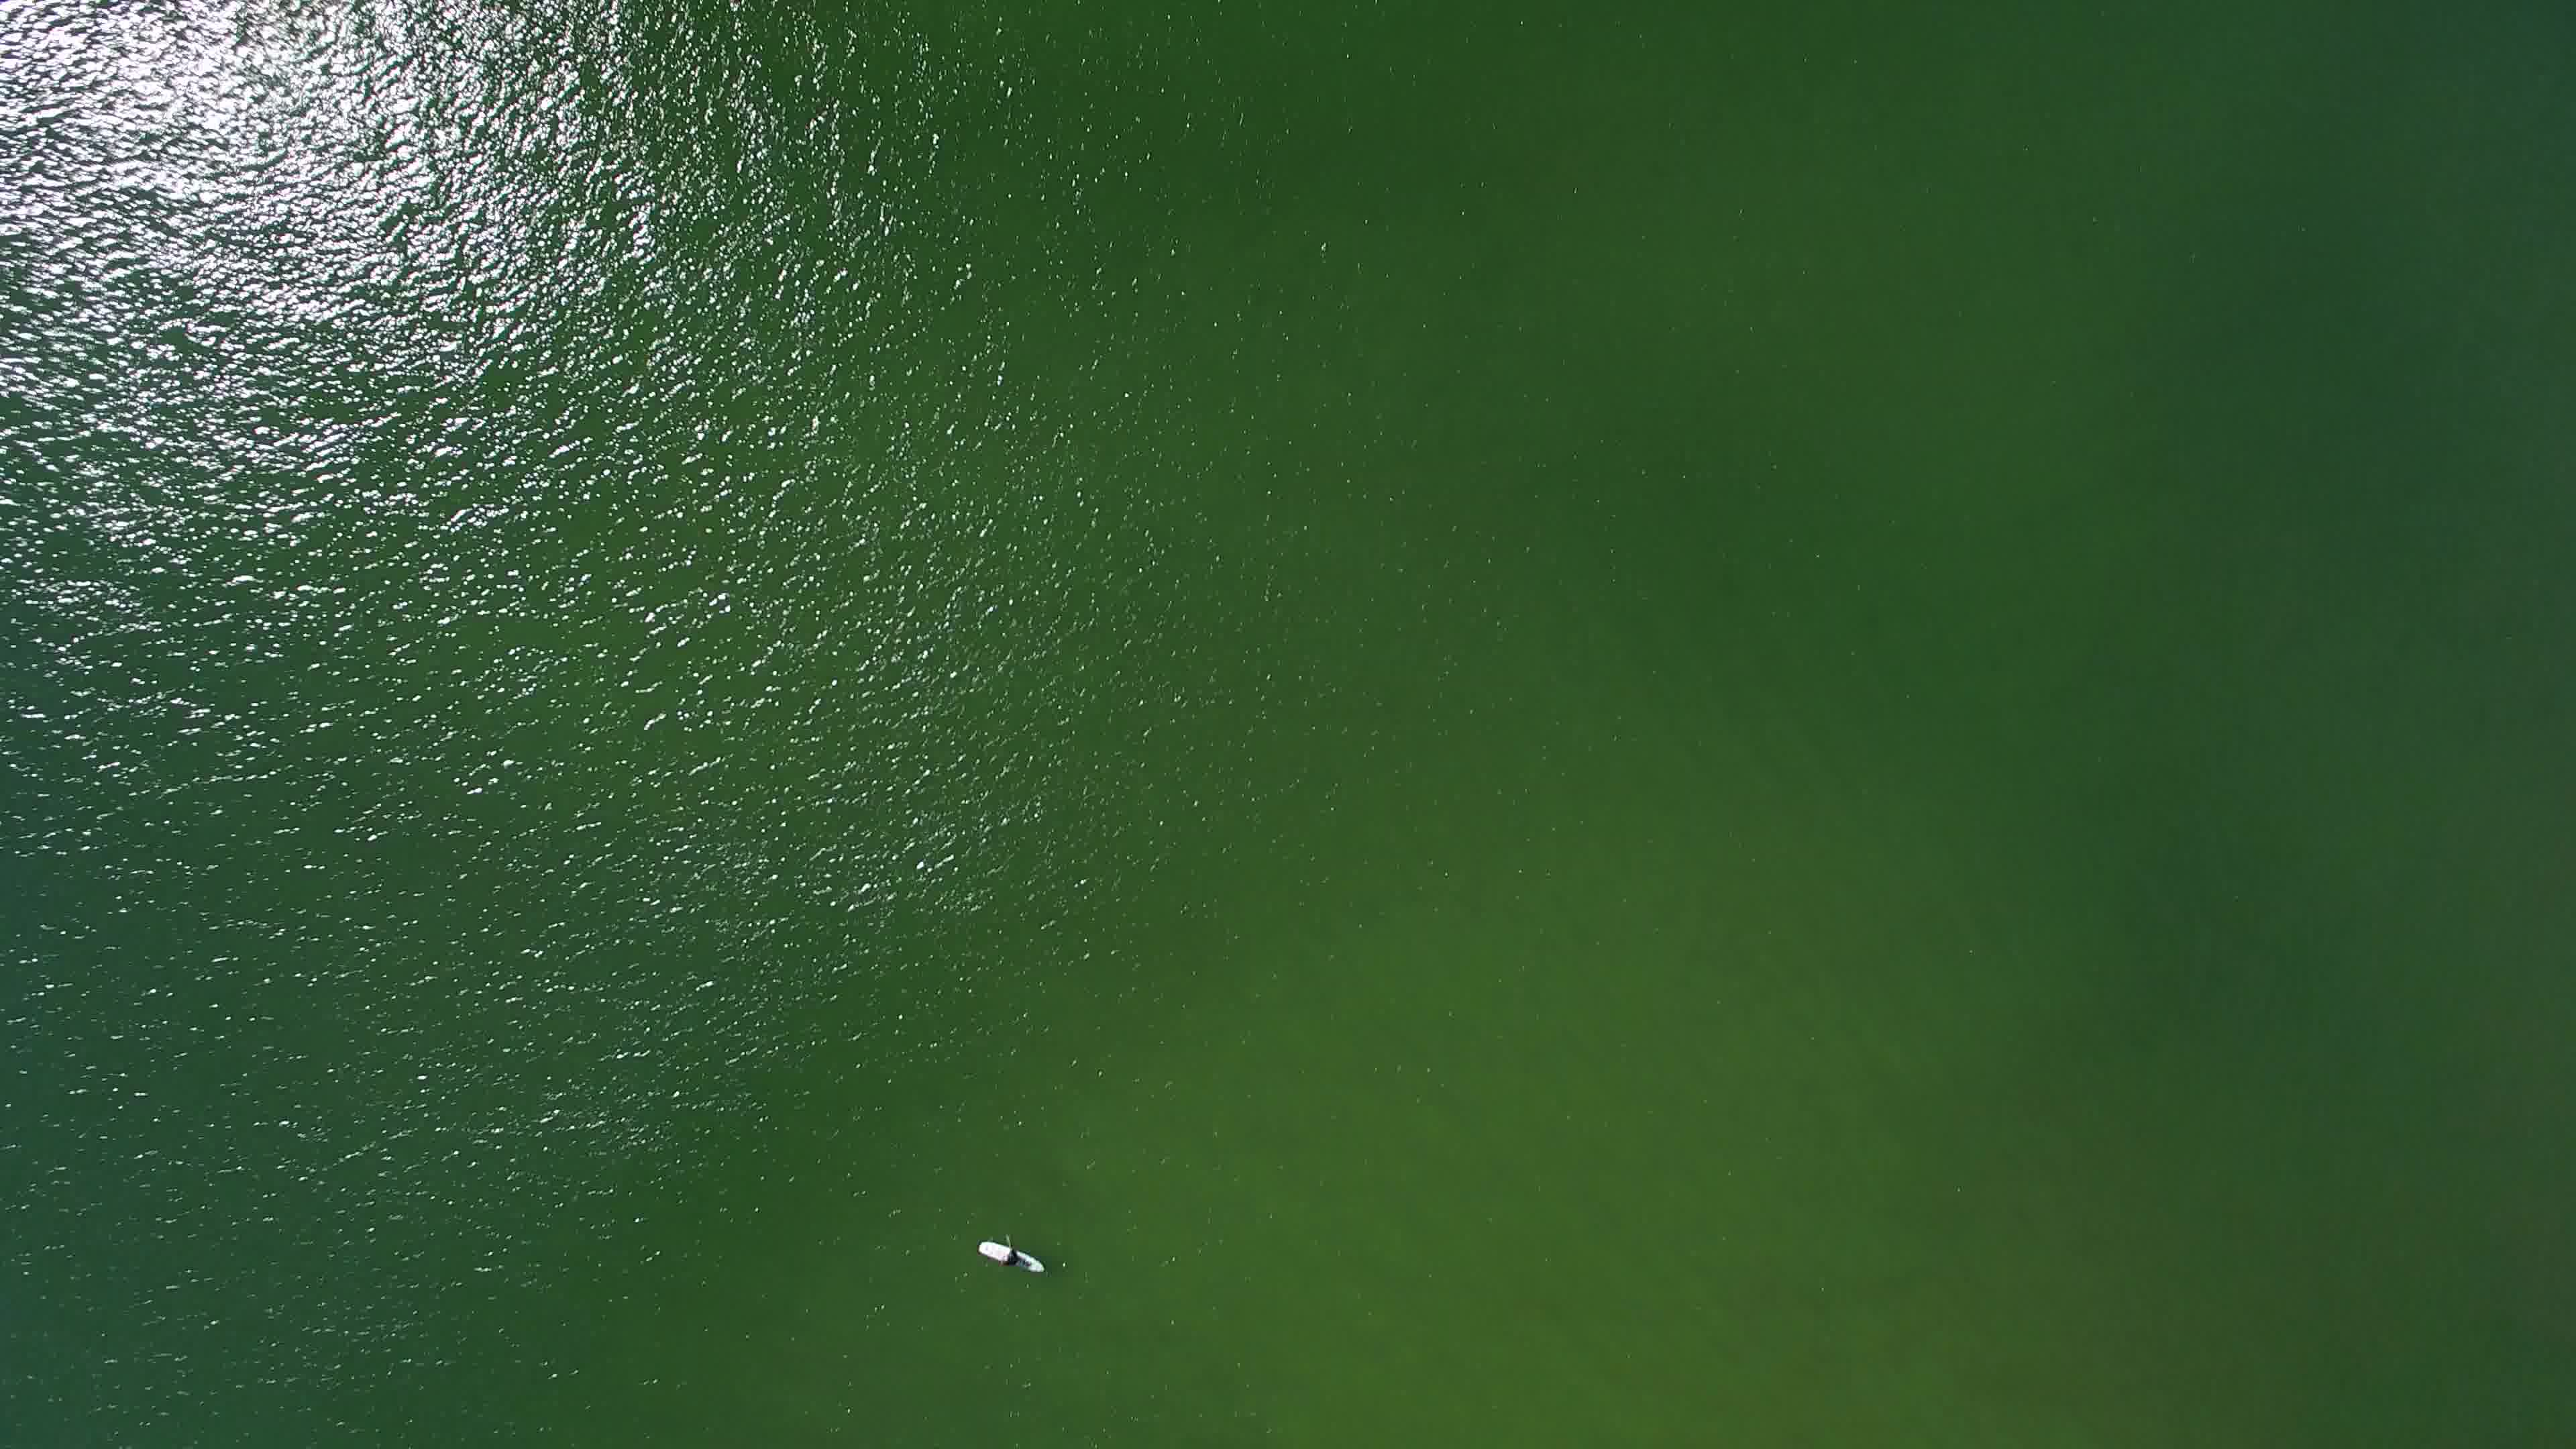surfer: (961, 1228, 1056, 1279)
